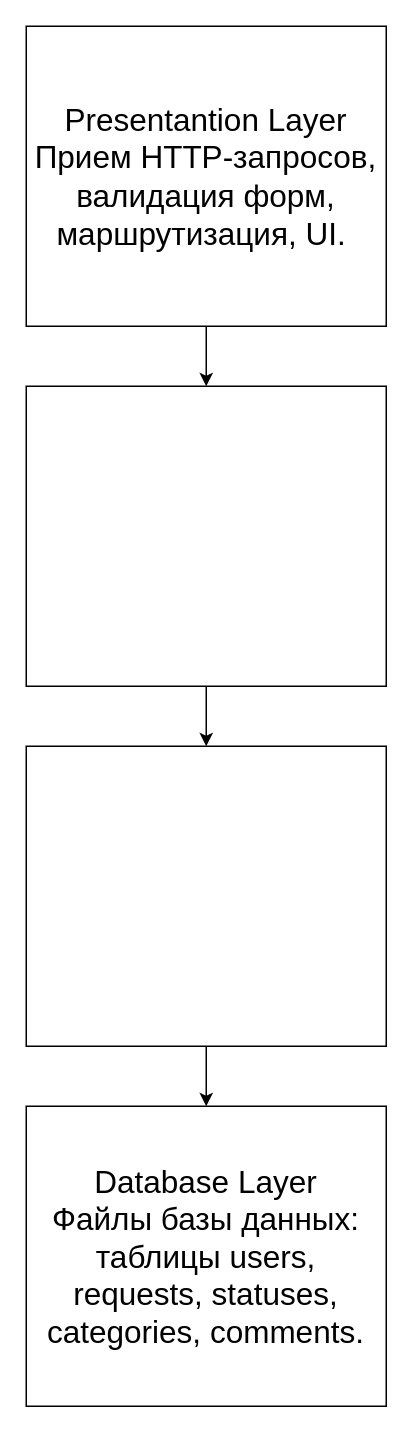
Some shapes in this 413 by 1445 pixel diagram are drawn without their labels. The shapes that lost their labels are listed below. From the top down, each one's centre as x and y in pixels, then its label:
point (205, 535): Service Layer Правила обработки заявок, проверка прав ролей, смена статусов.
point (205, 895): Repository Layer Выполнение SQL-запросов (CRUD), маппинг данных из базы.
